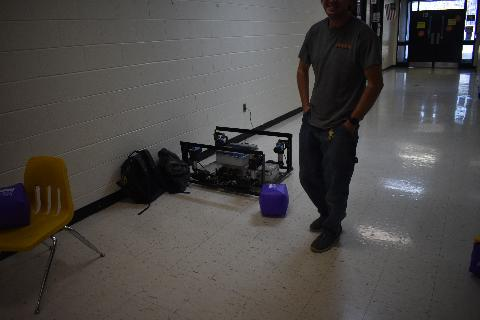cube: (0, 182, 32, 230), (259, 183, 289, 217)
